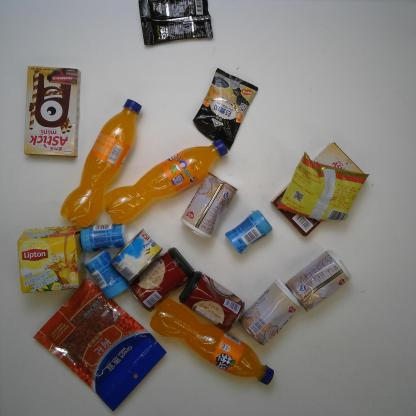Canned Food: (176, 264, 246, 336), (127, 244, 200, 312), (238, 274, 304, 346), (180, 167, 238, 248), (285, 247, 355, 314), (110, 226, 166, 284)
Dessert: (267, 140, 371, 240), (20, 62, 90, 160)
Dried Fruit: (32, 276, 168, 412)
Drink: (146, 295, 277, 387), (101, 137, 233, 227), (57, 95, 145, 229)
Gum: (80, 248, 130, 302), (223, 208, 274, 256), (79, 215, 129, 253)
Instant Drink: (192, 69, 264, 150), (16, 219, 85, 298), (135, 1, 219, 46)
Seasoner: (276, 152, 368, 223)
